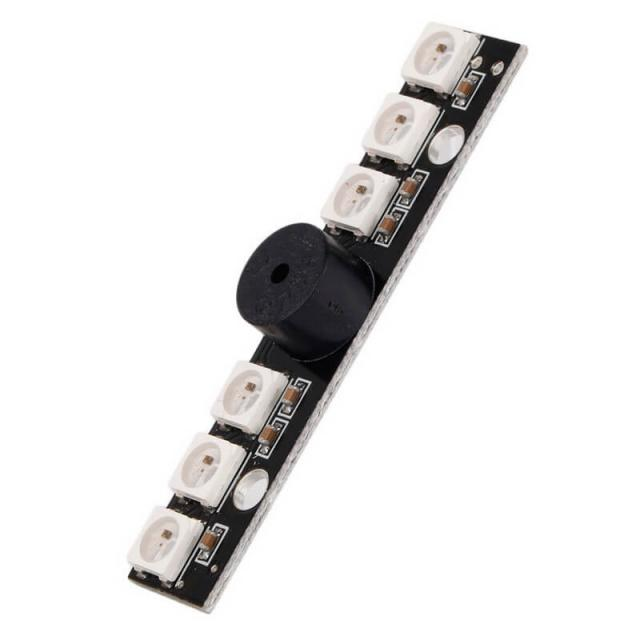LED: (127, 513, 197, 576), (357, 96, 433, 150), (201, 366, 277, 420), (404, 22, 471, 81), (160, 442, 241, 490), (323, 164, 388, 222)
buzzer: (234, 221, 379, 347)
capacitor 1V5: (451, 69, 485, 107), (250, 424, 286, 449), (370, 213, 399, 240), (394, 176, 424, 202), (192, 529, 224, 549), (276, 387, 302, 406)
